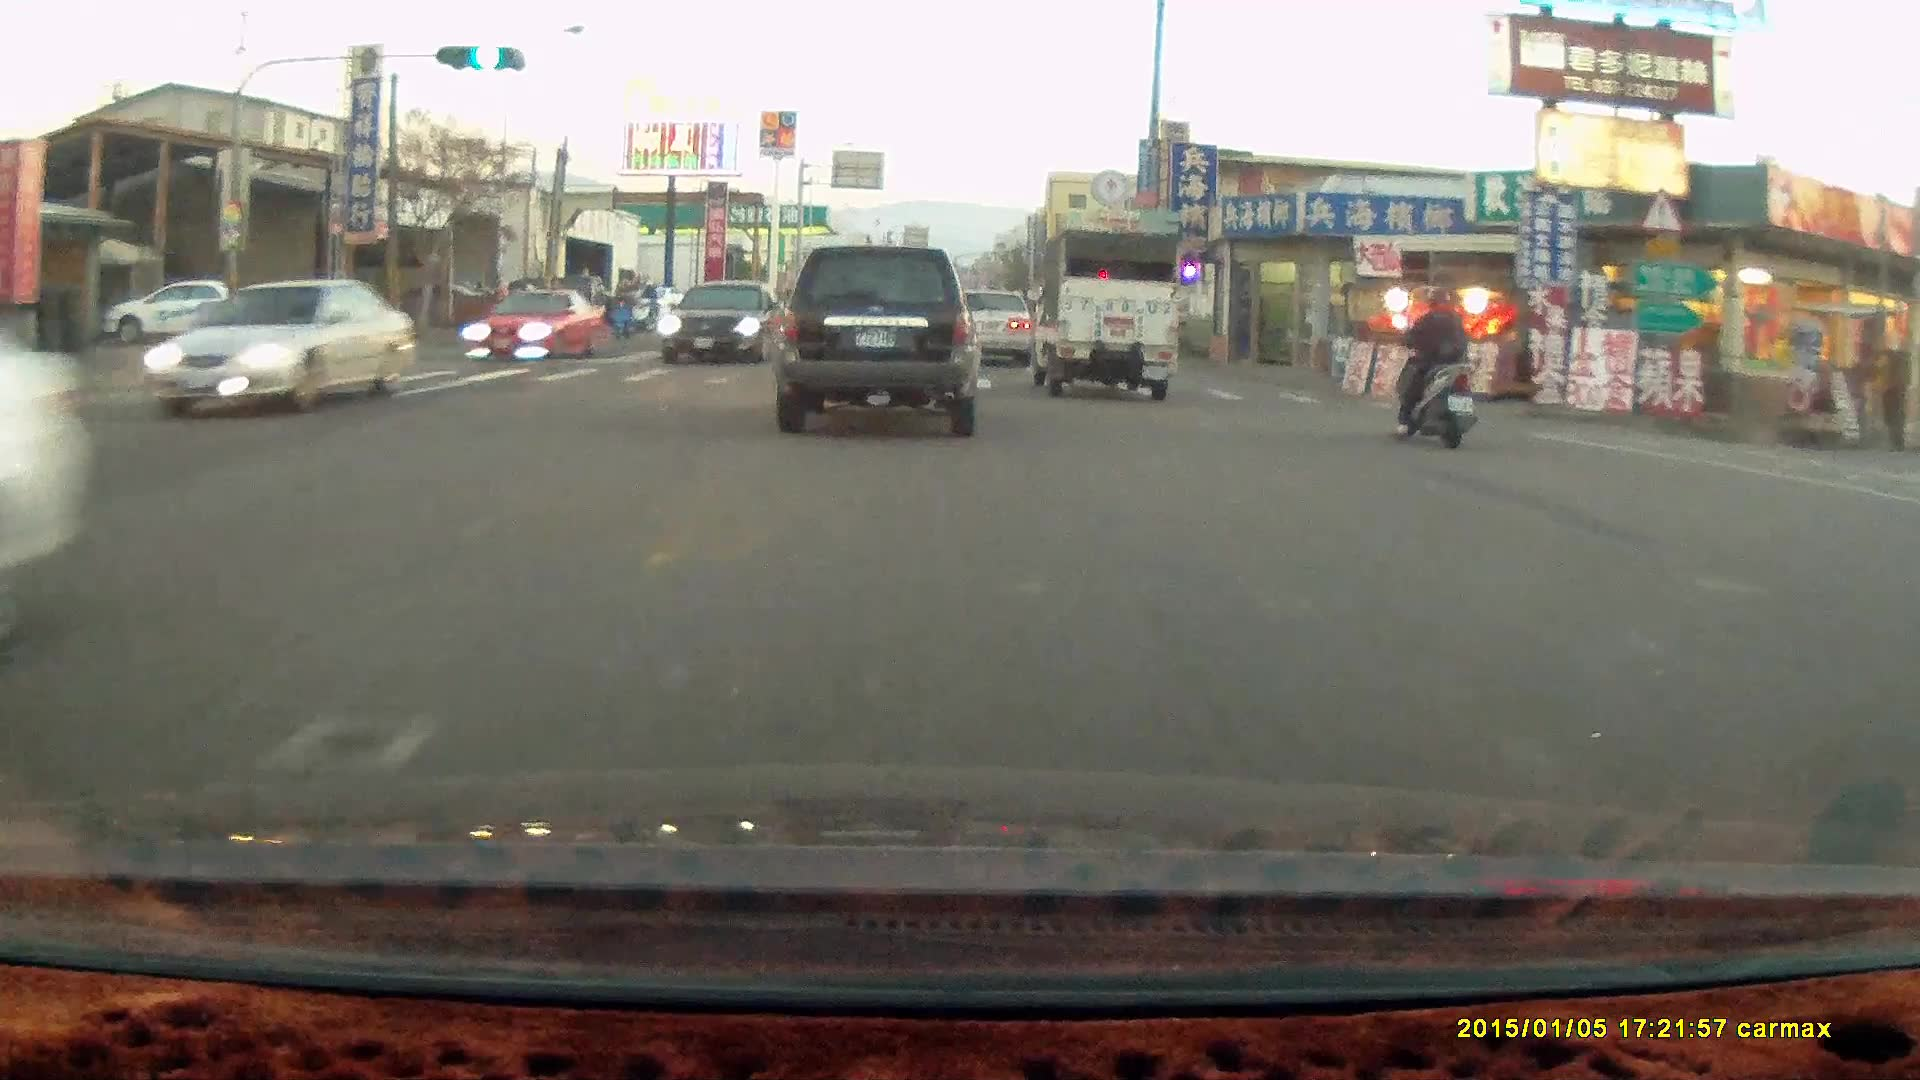rider: (1387, 282, 1475, 445), (604, 286, 640, 341), (628, 282, 663, 336)
vehicle: (772, 245, 984, 438), (149, 282, 418, 420), (1023, 229, 1177, 402), (660, 278, 800, 369), (470, 287, 603, 364), (101, 283, 265, 343), (944, 288, 1033, 367), (957, 294, 1038, 369)
